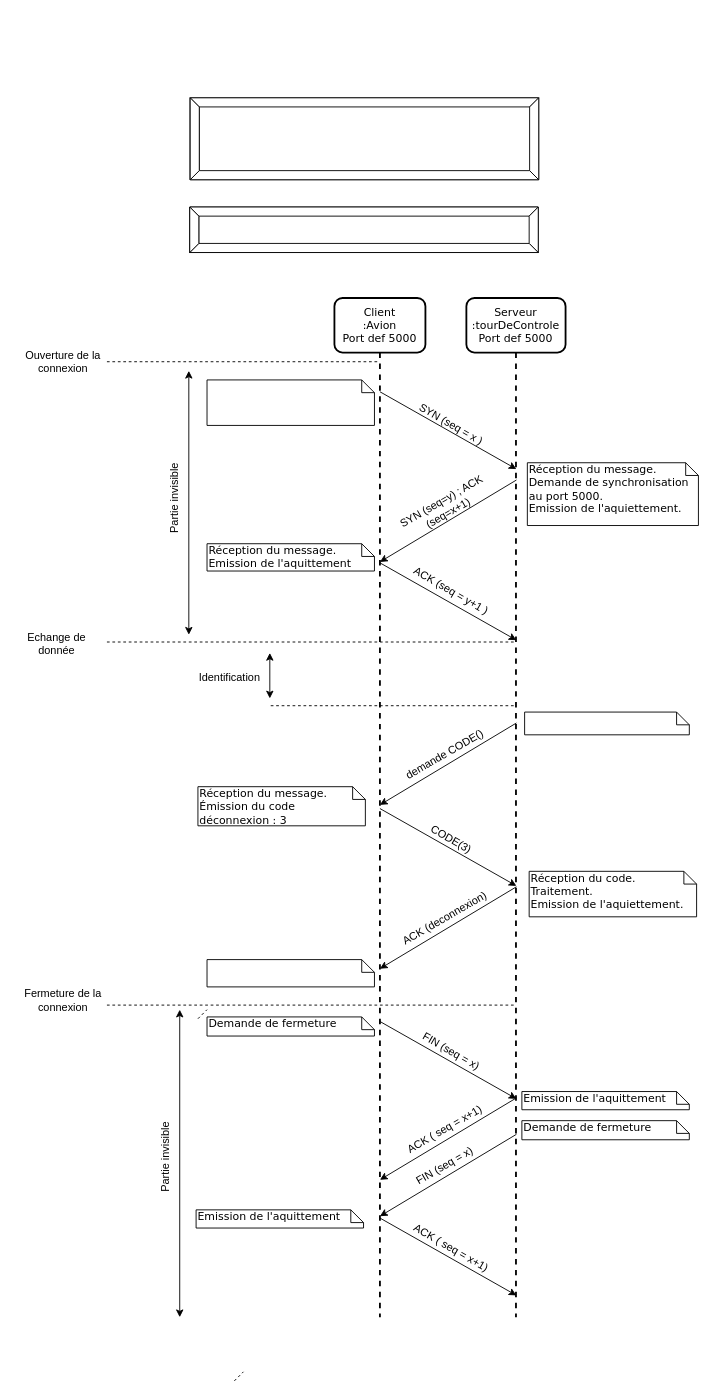
Image size: 714x1398. Some labels were removed from this diagram. Each missing label, with the centre of its shape:
Communication TCP Avion - Tour de controle Groupe : AEROW version : finale: [364,138]
Demande de code: [606,723]
Demande de synchronisation au port 5000: [290,402]
Déconnexion: [363,229]
Réception du message. Emission de l'id: [290,973]
